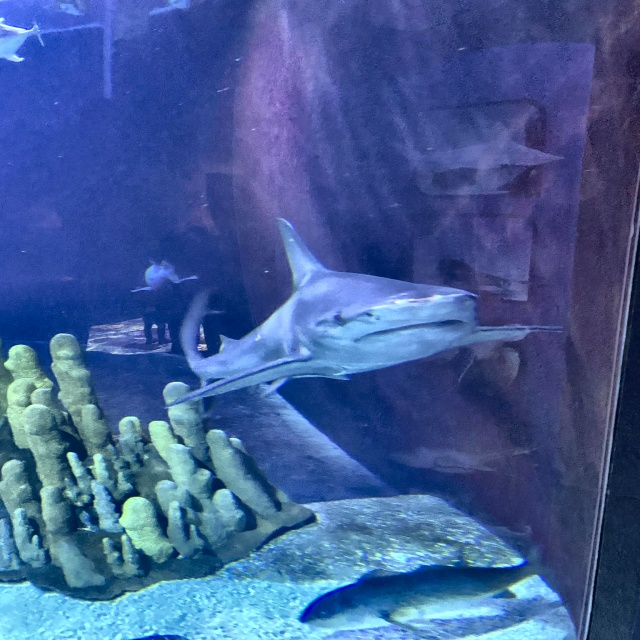fish: (299, 540, 560, 631), (130, 263, 198, 293), (0, 18, 44, 64)
shark: (163, 218, 545, 407)
